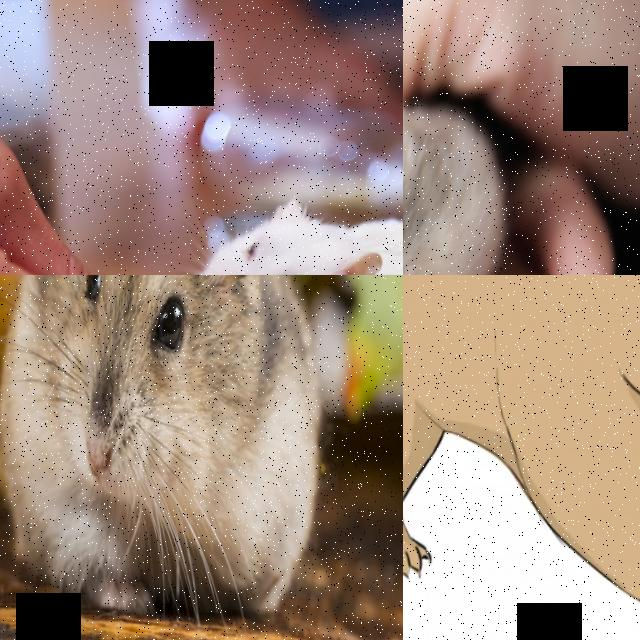hamster: (0, 275, 328, 623), (403, 275, 640, 640), (403, 98, 510, 275), (177, 196, 403, 275)
